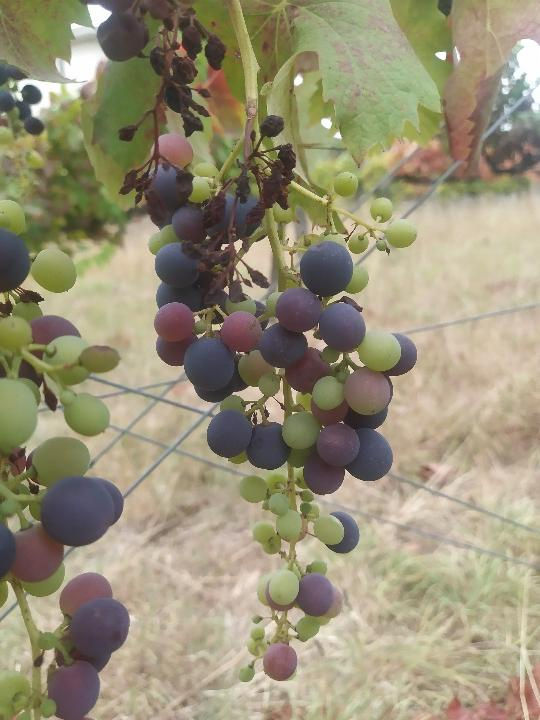grape: (146, 117, 420, 685), (92, 4, 226, 230)
